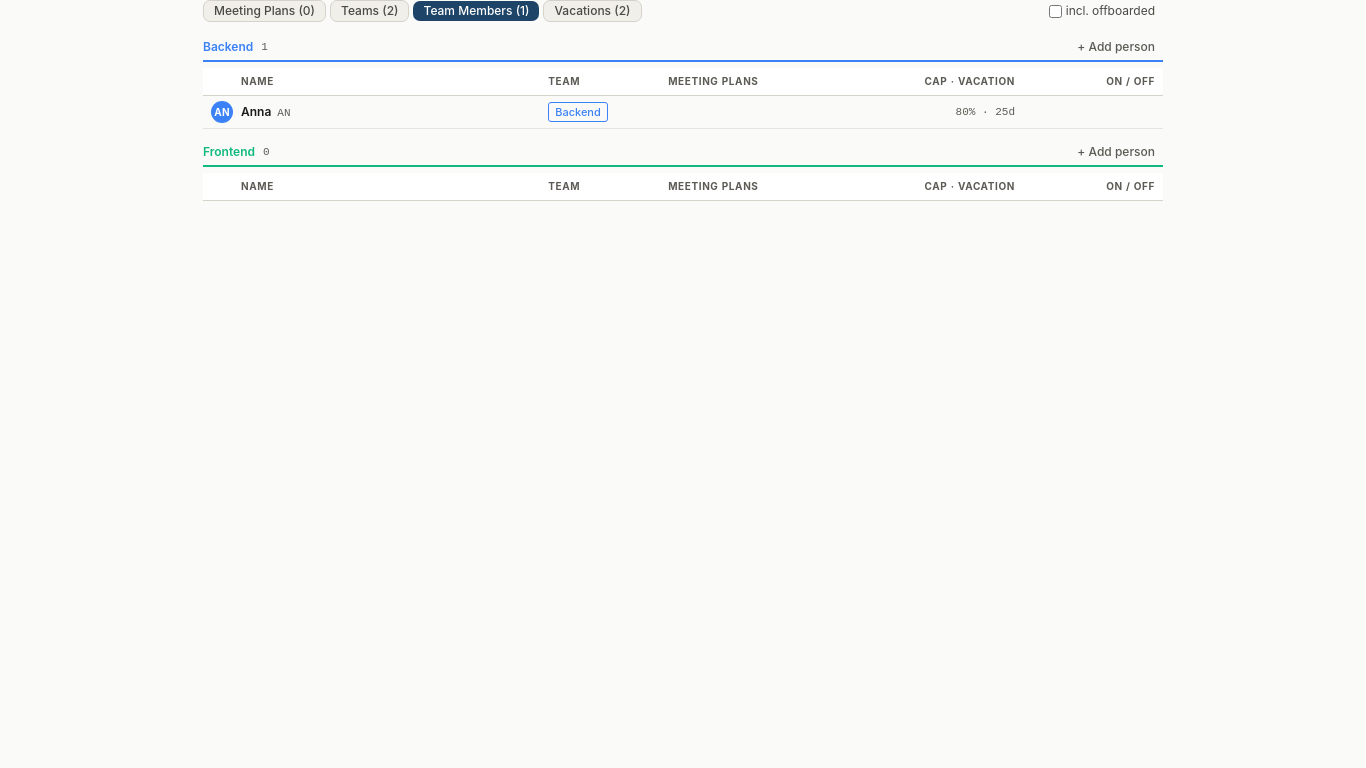
Test case: ResView filter › opens a derived-capacity member without crashing
Click the text "Anna" at (387, 112), box [233,96,540,128]
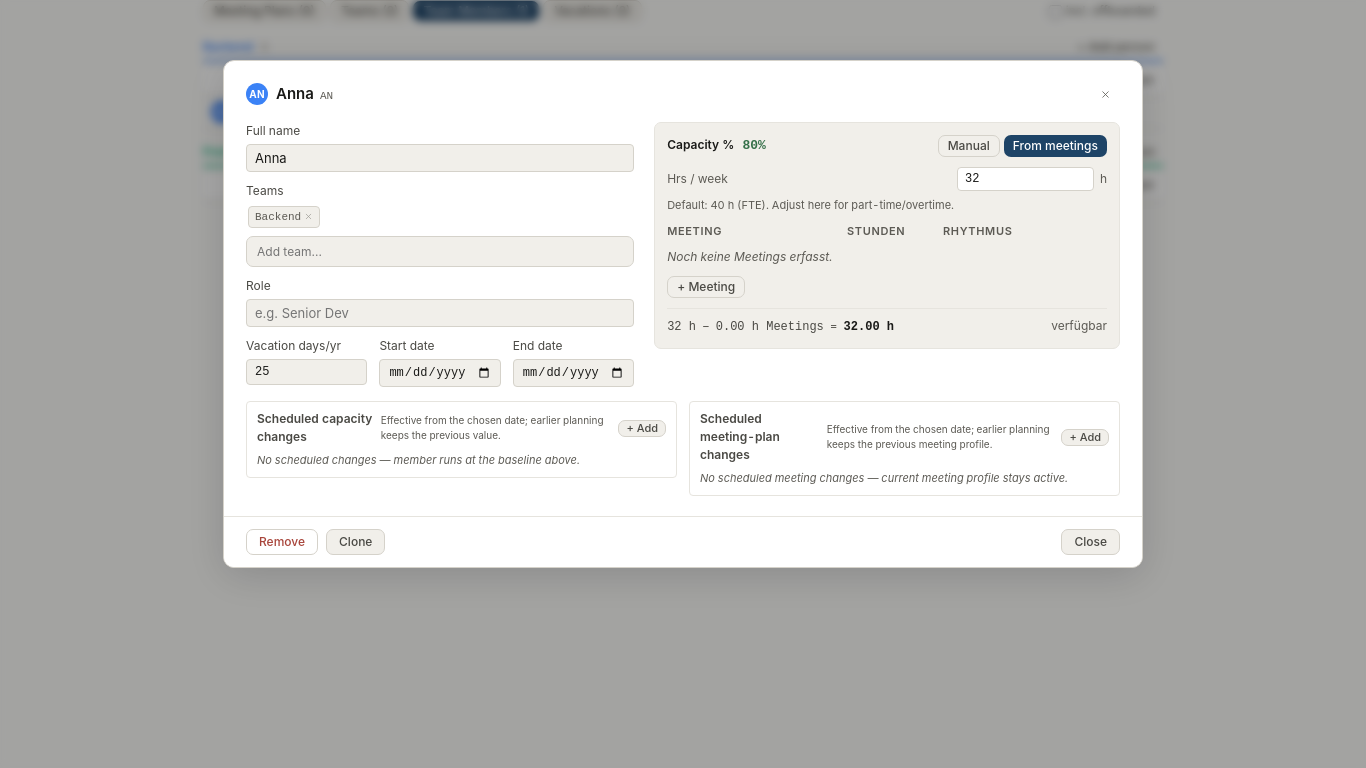
expect the text "Hrs / week" is shown: met, box [667,170,728,188]
